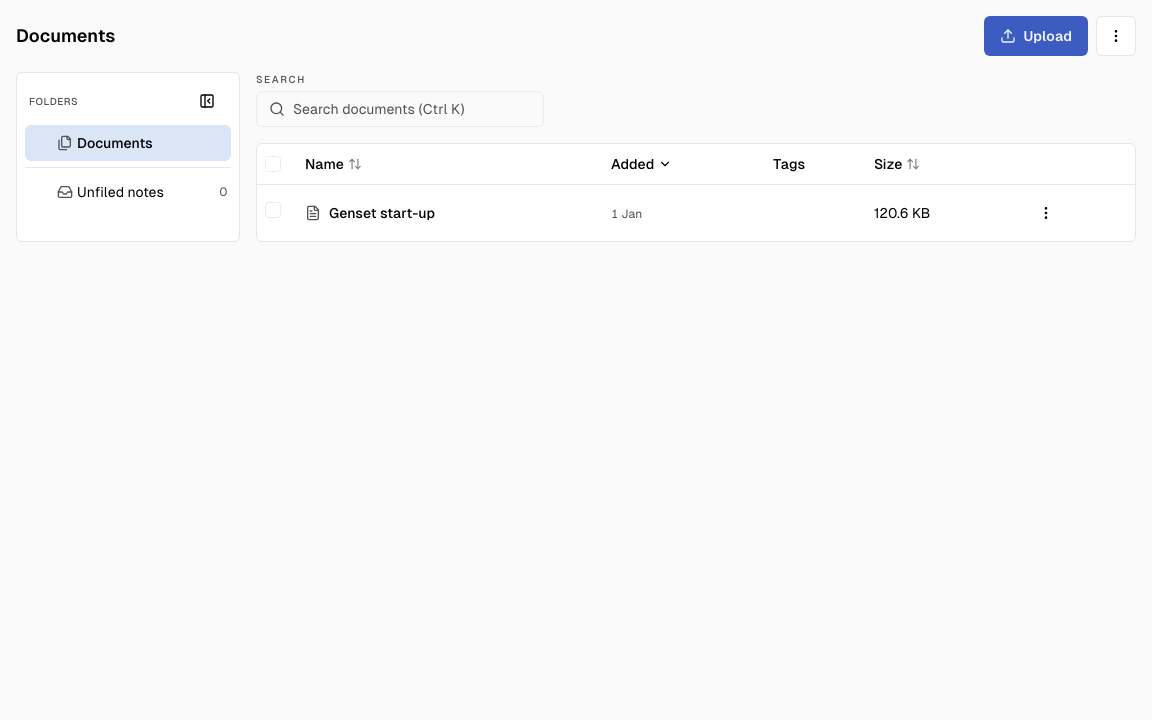
Test: DocumentsPanel › the viewer › renders a text/markdown document through NoteMarkdown, not a <pre>
Click the button "Genset start-up" at (382, 212), box x1=329 y1=202 x2=435 y2=222
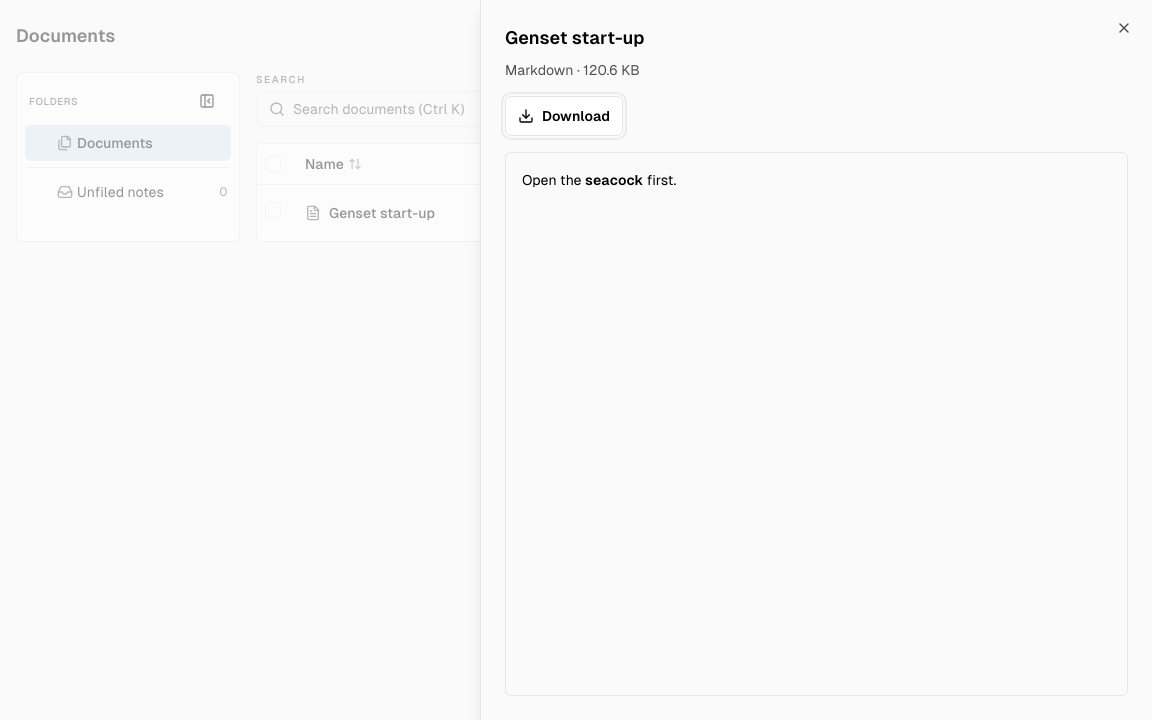
Result: the text "Open the seacock first." is shown at x1=522 y1=172 x2=676 y2=188
Result: the text "seacock" is shown at x1=585 y1=172 x2=643 y2=188
